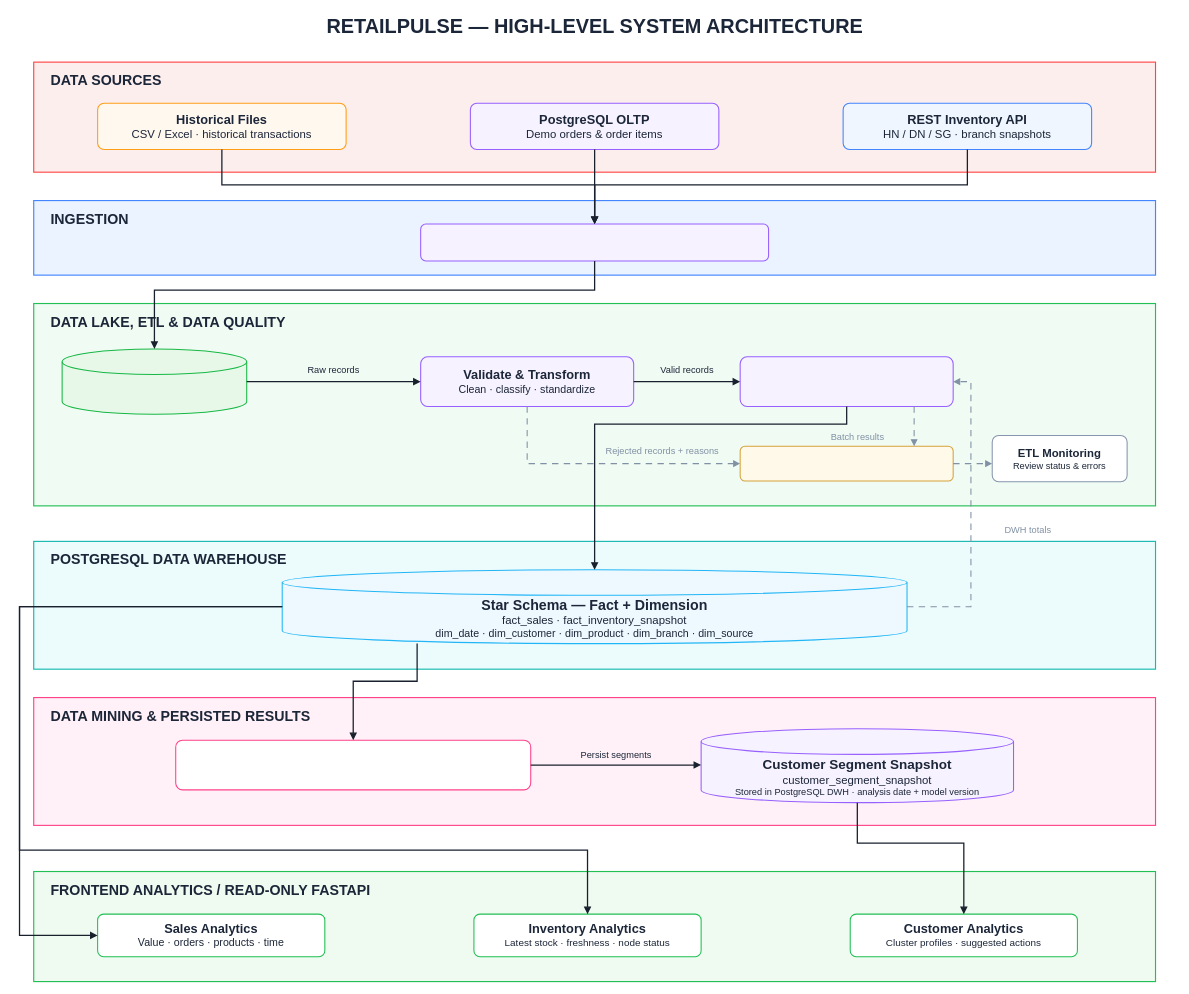
This 1189x994 diagram has some shape labels left out. Each missing label, with the centre of its shape:
"Customer Segmentation RFM features · K-means clustering · cluster interpretation" goes at point (353, 764).
"ETL Audit Logs Run status · rejected · reconciliation" goes at point (846, 463).
"Load & Reconcile Upsert dimensions + facts Compare source / DWH totals" goes at point (846, 381).
"Python Ingestion Read file · SELECT SQL · HTTP GET" goes at point (594, 242).
"Raw Zone Original files / extracts / JSON Source · batch ID · timestamps" goes at point (154, 381).
